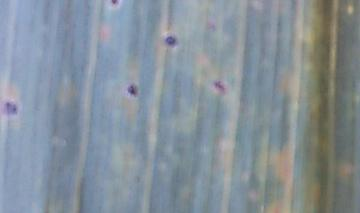tarspot: (211, 77, 228, 94), (162, 33, 177, 48), (5, 102, 17, 117), (127, 84, 139, 98), (108, 1, 118, 4)
